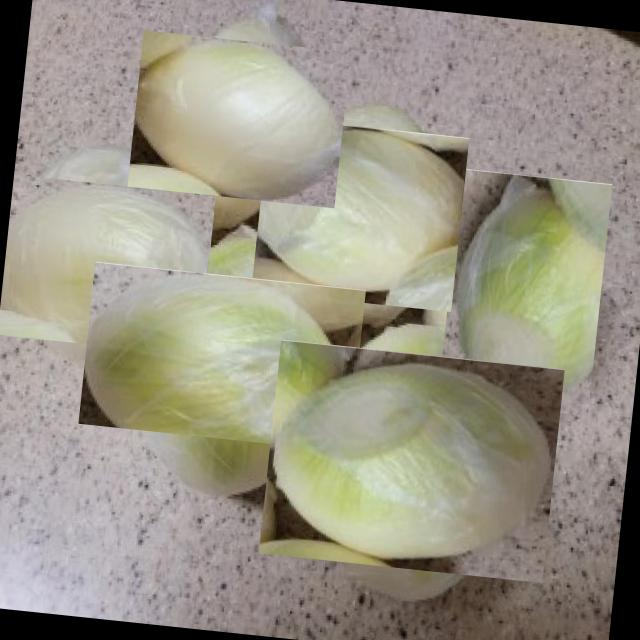Onion: (274, 324, 549, 598), (102, 238, 340, 477), (437, 168, 612, 416), (256, 110, 463, 318), (0, 156, 200, 370), (138, 18, 339, 220)
